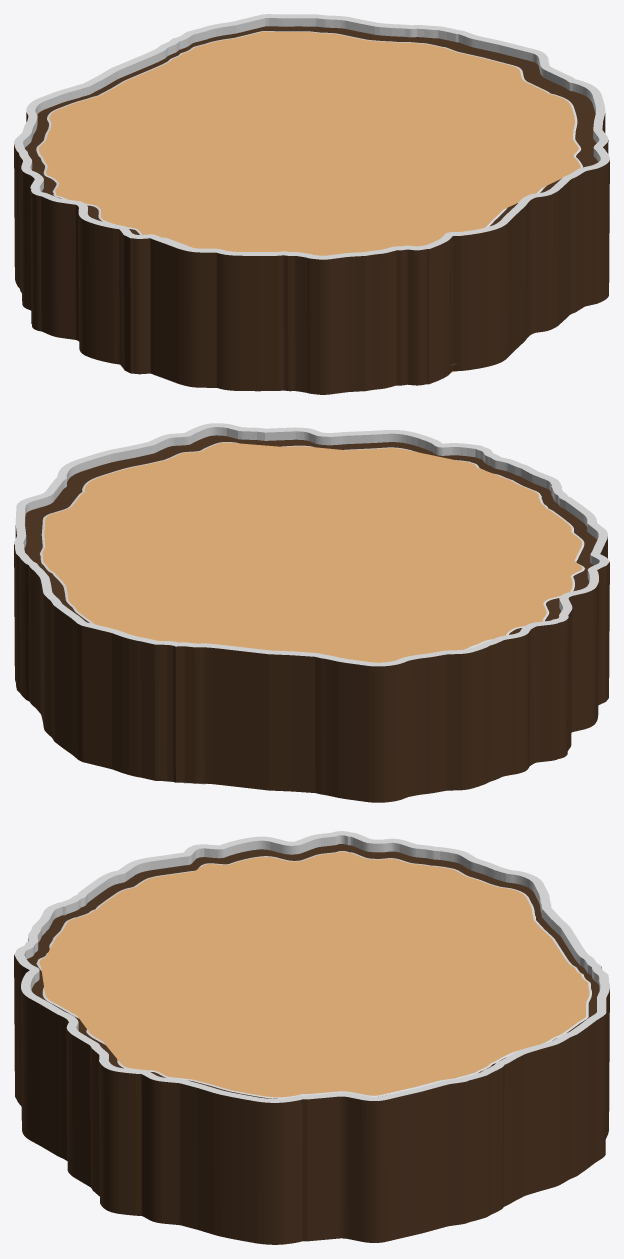
File: wood1.fbx
3 views of the same model, one above another, from view 1: azimuth 30°, elevation 25°; view 2: azimuth 150°, elevation 25°; view 3: azimuth 270°, elevation 25° (orthographic). The views are drawn at different scales.
Visible parts, largest first — view 1: Шапка_2_2, Выдавливание_NURBS_1, Закругление_2, Шапка_2, Закругление_2_2; view 2: Шапка_2_2, Выдавливание_NURBS_1, Закругление_2, Шапка_2, Закругление_2_2; view 3: Шапка_2_2, Выдавливание_NURBS_1, Закругление_2, Шапка_2, Закругление_2_2.
Part boxes in pixels (x1,y1,x2,y2): Шапка_2_2: (38,31,580,255); Выдавливание_NURBS_1: (14,112,609,394); Закругление_2: (14,14,609,259); Шапка_2: (25,26,598,245); Закругление_2_2: (36,31,582,247); Шапка_2_2: (42,442,582,662); Выдавливание_NURBS_1: (14,525,609,802); Закругление_2: (14,423,609,666); Шапка_2: (24,435,597,634); Закругление_2_2: (40,442,584,649); Шапка_2_2: (39,851,589,1097); Выдавливание_NURBS_1: (14,938,609,1244); Закругление_2: (14,831,609,1102); Шапка_2: (27,844,599,1098); Закругление_2_2: (36,851,591,1098).
Bounding box in the file's own units: 1505 × 386 × 1394.
